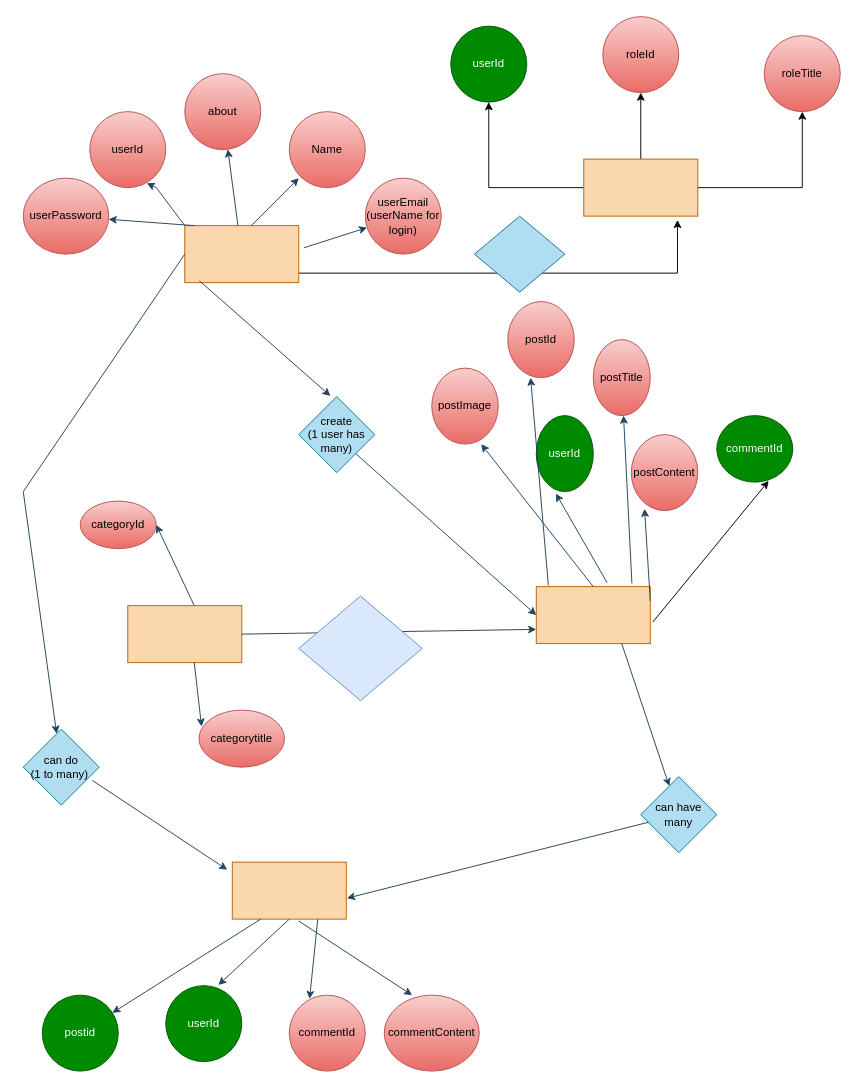
Image size: 857x1088. Some labels were removed from this diagram. Here are the shapes that lost their labels. From the top down, the centre of each, then its label:
At point 640,187: "role".
At point 241,254: "user".
At point 519,253: "1 to 1 (1 user has one role)".
At point 184,634: "category".
At point 592,615: "post".
At point 360,648: "1 to many (1 category has many)".
At point 288,890: "comment".
